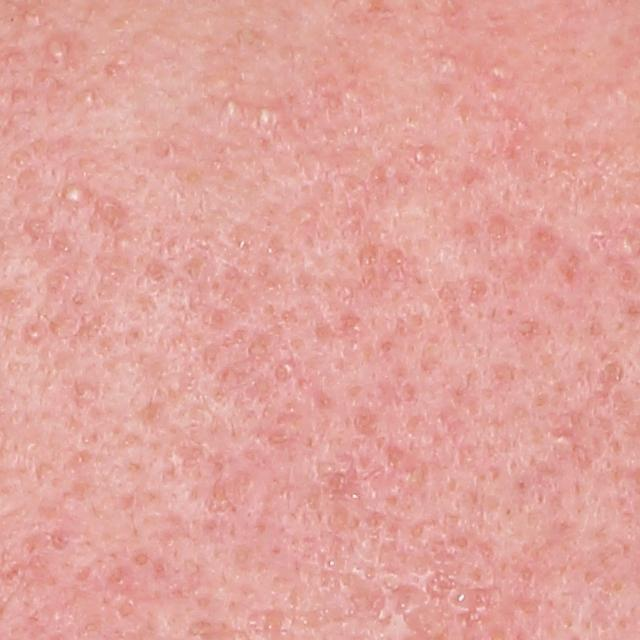comedo: (19, 8, 42, 33), (112, 232, 134, 253), (619, 235, 639, 257), (14, 151, 31, 168), (82, 90, 99, 106), (238, 234, 251, 248)
papule: (465, 278, 490, 303), (21, 323, 43, 346), (270, 360, 291, 380)
pustule: (39, 32, 75, 68), (253, 104, 290, 131), (58, 182, 89, 207), (220, 93, 247, 117)
